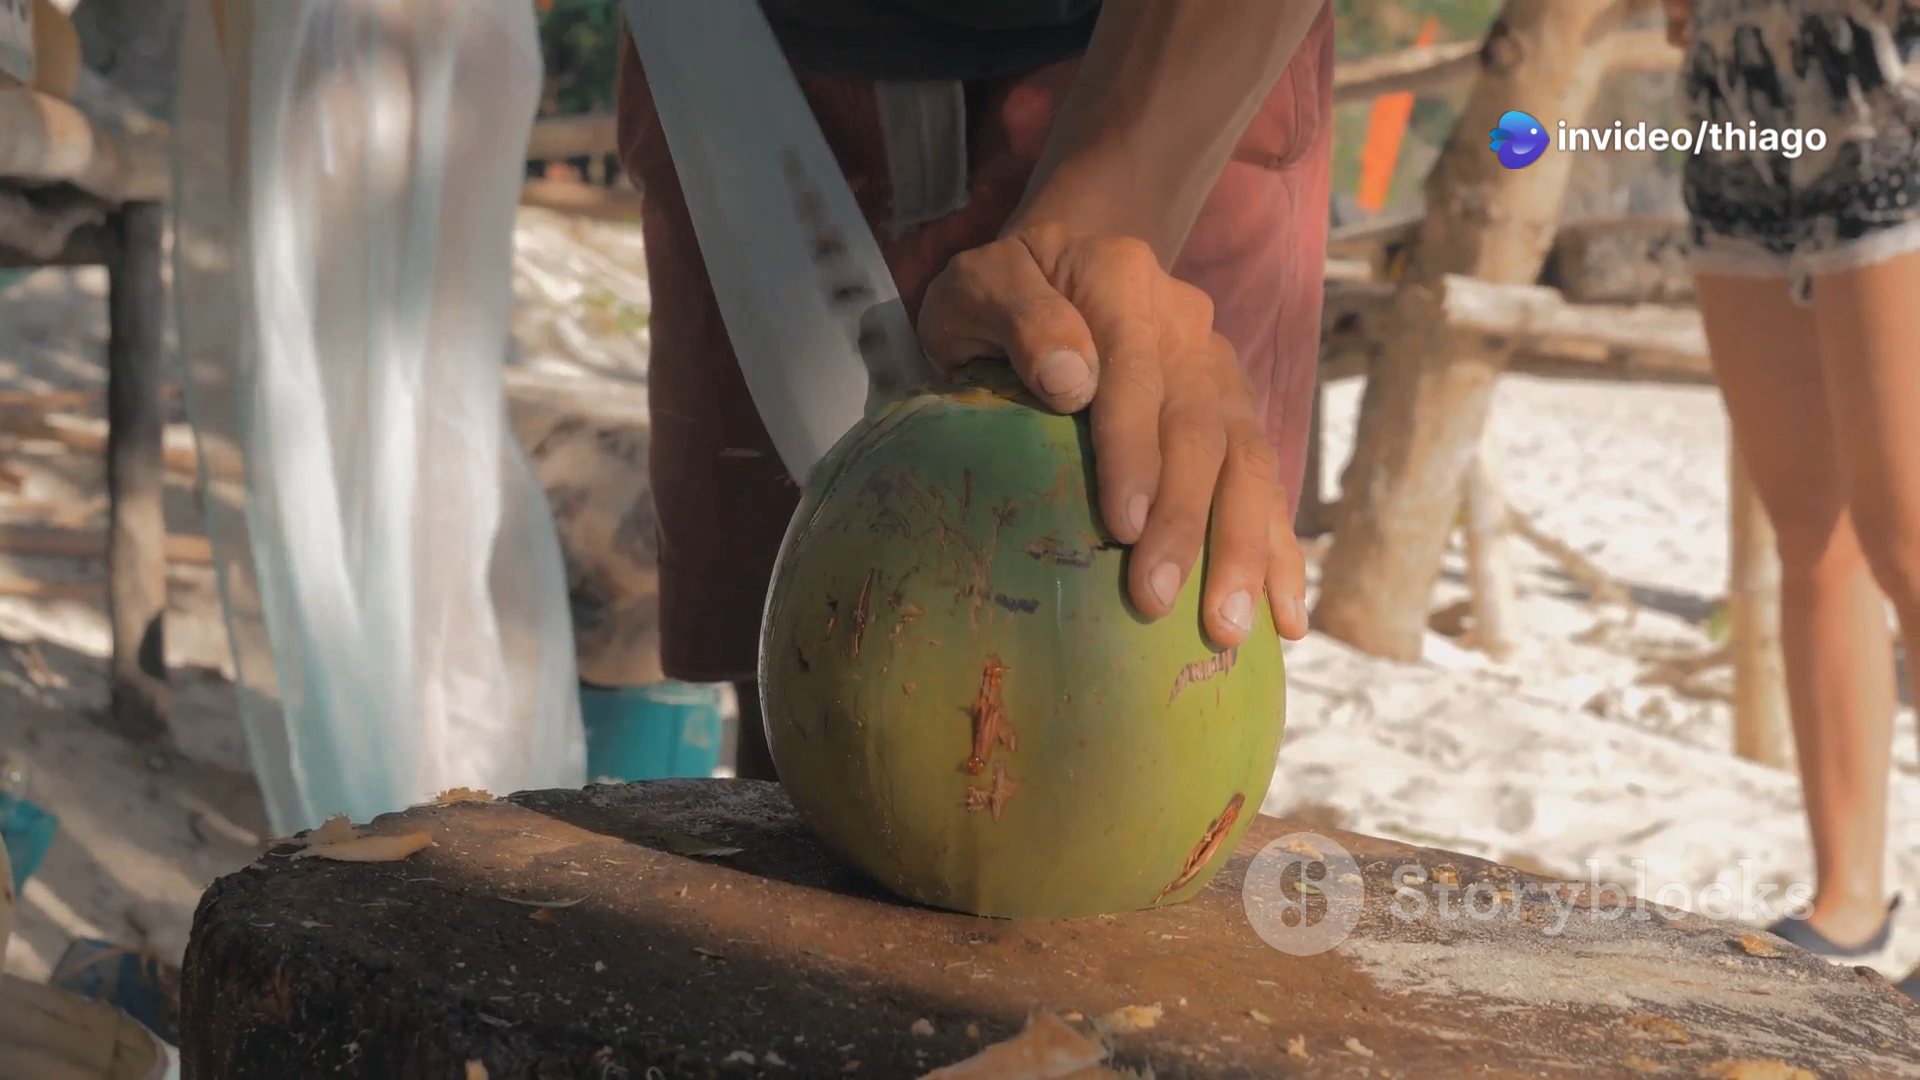cortante: (624, 0, 944, 496)
